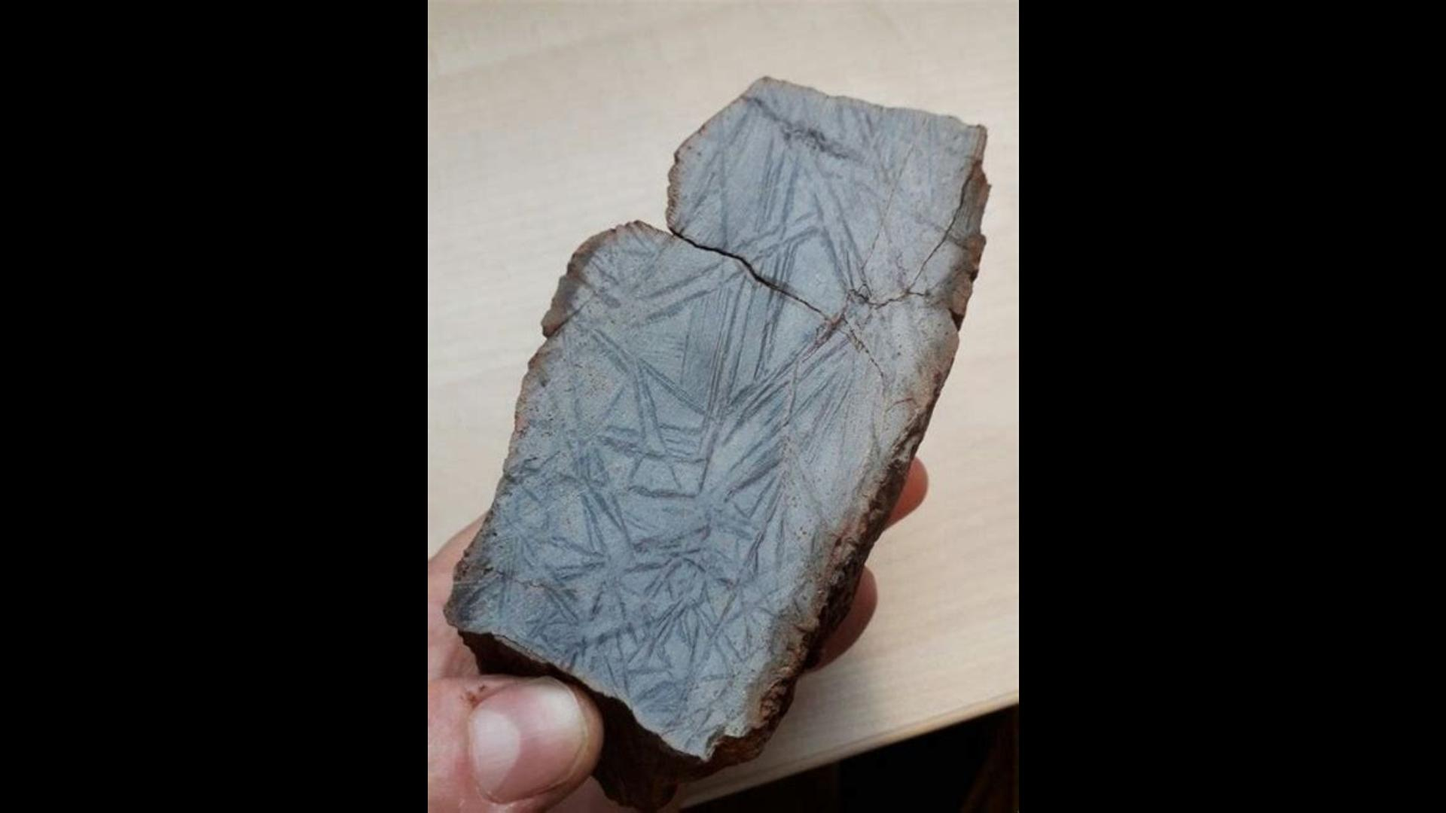rock: (447, 80, 977, 806)
